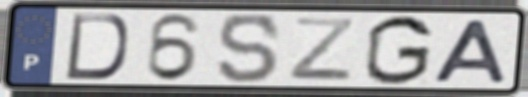6: (143, 11, 202, 83)
A: (429, 17, 512, 85)
D: (62, 11, 131, 82)
G: (362, 13, 436, 87)
S: (216, 11, 284, 86)
Z: (286, 16, 358, 84)
